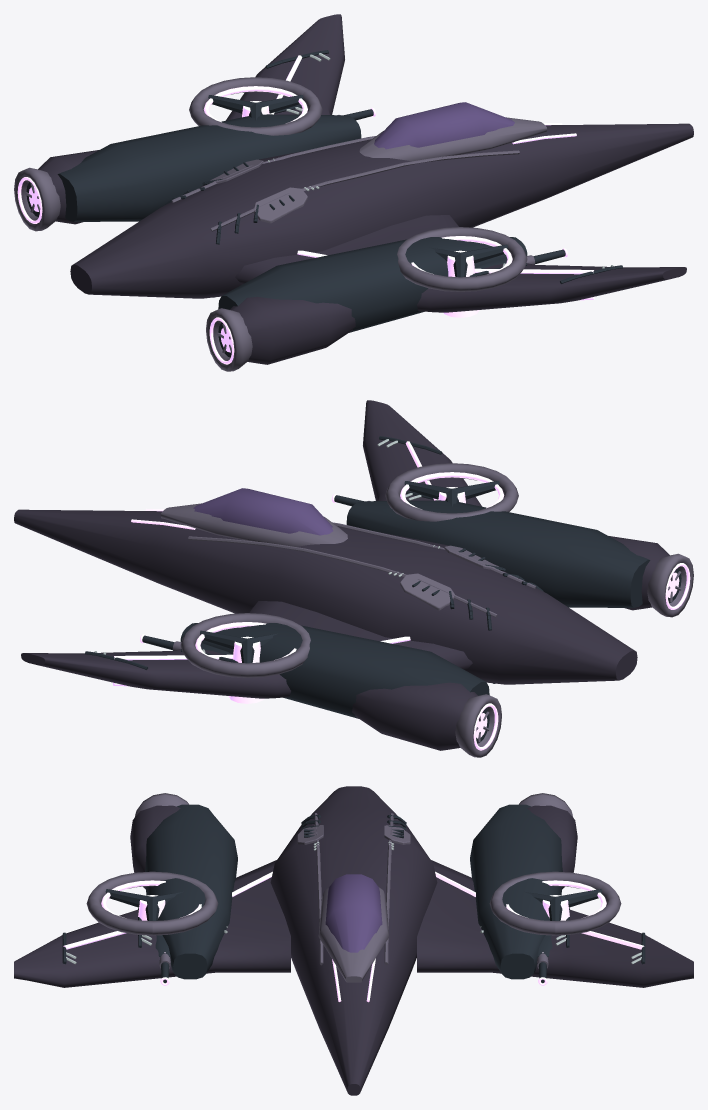
Rendered from tempest.glb.
The picture shows the model from 3 angles, top to bottom: view 1: azimuth 30°, elevation 25°; view 2: azimuth 150°, elevation 25°; view 3: azimuth 270°, elevation 25°; orthographic projection.
Parts seen in each view (by area): view 1: hull Hull paint, hull Graphite heat armour, wing Hull paint, hull Brushed panel alloy, hull Smoked canopy, engine Brushed panel alloy, hull Hull guidance, engine Hull guidance, wing Hull guidance, wing Graphite heat armour, mount Graphite heat armour; view 2: hull Hull paint, hull Graphite heat armour, wing Hull paint, hull Brushed panel alloy, hull Smoked canopy, engine Brushed panel alloy, hull Hull guidance, engine Hull guidance, wing Hull guidance, wing Graphite heat armour, mount Graphite heat armour; view 3: hull Hull paint, wing Hull paint, hull Graphite heat armour, hull Brushed panel alloy, hull Smoked canopy, hull Hull guidance, wing Hull guidance, engine Brushed panel alloy, mount Graphite heat armour.
Part boxes in pixels (x1,y1,x2,y2): hull Hull paint: [38, 123, 693, 364]; hull Graphite heat armour: [57, 95, 527, 332]; wing Hull paint: [226, 14, 686, 312]; hull Brushed panel alloy: [171, 77, 547, 291]; hull Smoked canopy: [374, 102, 514, 149]; engine Brushed panel alloy: [14, 167, 252, 371]; hull Hull guidance: [203, 86, 576, 317]; engine Hull guidance: [17, 177, 234, 364]; wing Hull guidance: [270, 55, 594, 300]; wing Graphite heat armour: [265, 50, 622, 283]; mount Graphite heat armour: [344, 109, 565, 268]; hull Hull paint: [14, 509, 669, 750]; hull Graphite heat armour: [180, 481, 650, 718]; wing Hull paint: [21, 400, 481, 698]; hull Brushed panel alloy: [160, 463, 536, 677]; hull Smoked canopy: [193, 488, 333, 535]; engine Brushed panel alloy: [455, 553, 693, 757]; hull Hull guidance: [131, 472, 504, 703]; engine Hull guidance: [473, 563, 690, 750]; wing Hull guidance: [113, 441, 437, 686]; wing Graphite heat armour: [85, 436, 442, 669]; mount Graphite heat armour: [142, 495, 363, 654]; hull Hull paint: [130, 786, 577, 1095]; wing Hull paint: [14, 860, 693, 987]; hull Graphite heat armour: [105, 804, 602, 979]; hull Brushed panel alloy: [86, 813, 621, 982]; hull Smoked canopy: [325, 874, 382, 952]; hull Hull guidance: [101, 880, 606, 1002]; wing Hull guidance: [63, 871, 644, 949]; engine Brushed panel alloy: [134, 793, 573, 817]; mount Graphite heat armour: [155, 935, 552, 983].
Size of the model in its own units: 55 by 10.57 by 54.
